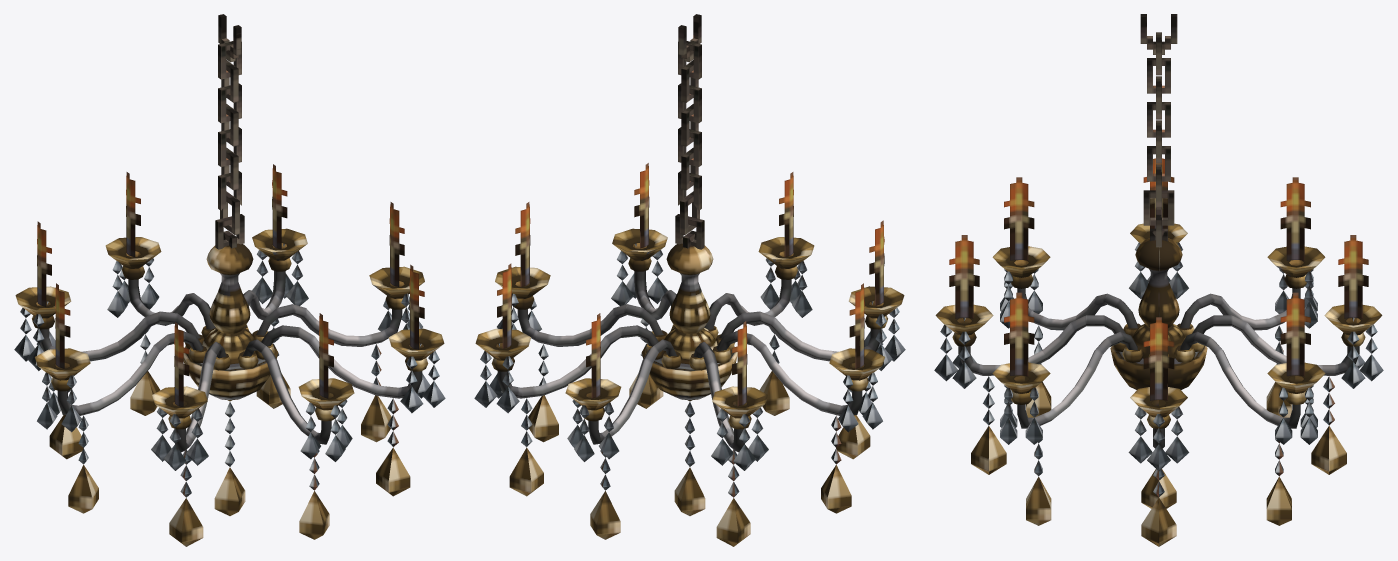
Rendered from ObjMD_Chandelier_B.FBX.
The picture shows the model from 3 angles, left to right: view 1: azimuth 30°, elevation 25°; view 2: azimuth 150°, elevation 25°; view 3: azimuth 270°, elevation 25°; orthographic projection.
Visible parts, largest first — view 1: ObjMD_Chandelier_B; view 2: ObjMD_Chandelier_B; view 3: ObjMD_Chandelier_B.
Part boxes in pixels (x1,y1,x2,y2): ObjMD_Chandelier_B: (14,14,445,546); ObjMD_Chandelier_B: (474,14,905,546); ObjMD_Chandelier_B: (934,14,1383,546).
Bounding box in the file's own units: 462 × 566 × 462.
